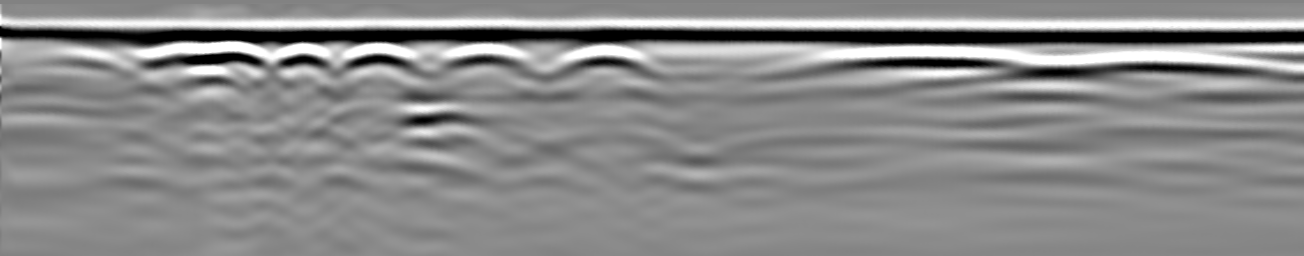steel: (797, 44, 1039, 70), (1069, 50, 1274, 77), (143, 43, 267, 69), (555, 44, 657, 74), (435, 43, 532, 68), (263, 43, 343, 68), (343, 44, 422, 67)
